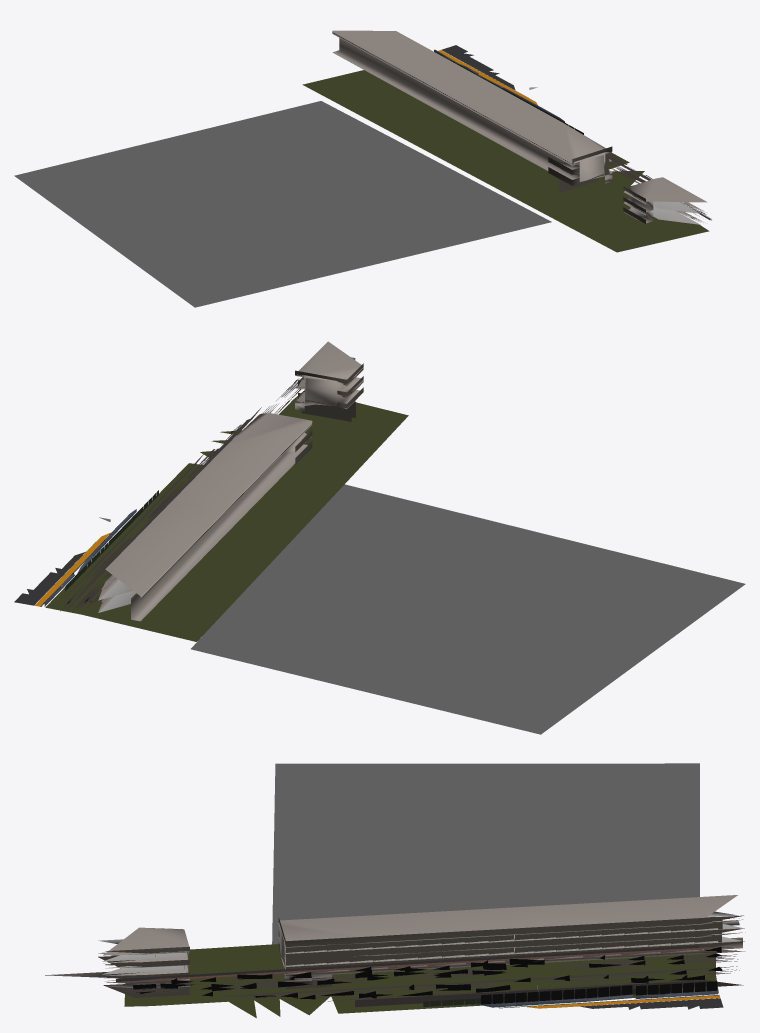
The picture shows the model from 3 angles, top to bottom: view 1: azimuth 30°, elevation 25°; view 2: azimuth 150°, elevation 25°; view 3: azimuth 270°, elevation 25°; orthographic projection. The views are drawn at different scales.
Parts seen in each view (by area): view 1: merged__lod1; view 2: merged__lod1; view 3: merged__lod1.
Boxes of the visible parts, x1,y1,x2,y2 form: merged__lod1: (14,30,711,307); merged__lod1: (14,341,745,734); merged__lod1: (45,763,745,1018).
Size of the model in its own units: 213 by 23.9 by 244.
